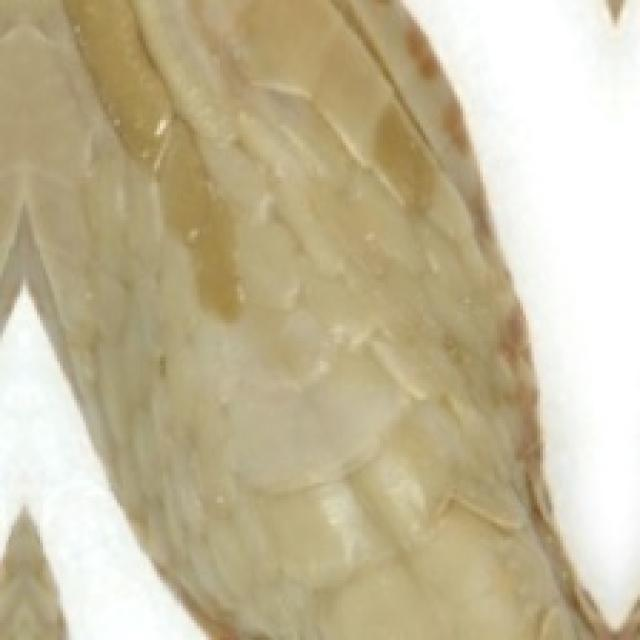mullers wolf snake: (0, 0, 637, 637), (3, 429, 134, 637), (3, 517, 60, 637), (137, 557, 174, 600), (140, 600, 151, 629), (166, 600, 177, 617), (117, 566, 137, 571)
